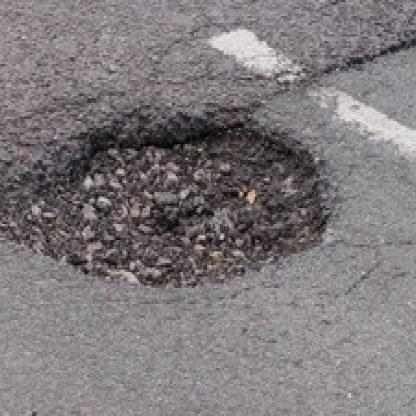pothole: (0, 101, 331, 288)
